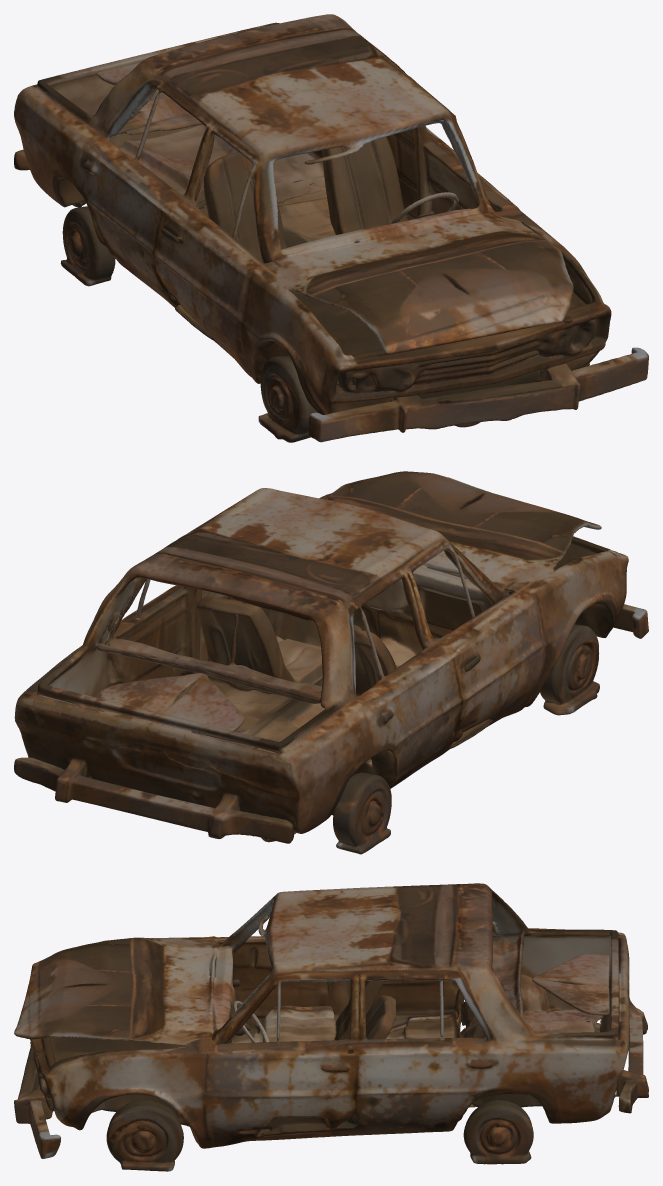
File: rusted car 3d model.glb
3 views of the same model, one above another, from view 1: azimuth 30°, elevation 25°; view 2: azimuth 150°, elevation 25°; view 3: azimuth 270°, elevation 25° (orthographic). The views are drawn at different scales.
Parts seen in each view (by area): view 1: tripo_node_3da9b92f-5475-4ff6-995b-cba9013f3b92; view 2: tripo_node_3da9b92f-5475-4ff6-995b-cba9013f3b92; view 3: tripo_node_3da9b92f-5475-4ff6-995b-cba9013f3b92.
Part boxes in pixels (<box>): tripo_node_3da9b92f-5475-4ff6-995b-cba9013f3b92: <box>14,14,648,442</box>; tripo_node_3da9b92f-5475-4ff6-995b-cba9013f3b92: <box>14,471,648,854</box>; tripo_node_3da9b92f-5475-4ff6-995b-cba9013f3b92: <box>14,883,648,1171</box>.
Size of the model in its own units: 0.5187 by 0.3362 by 1.
Materials: 1 (1 with a texture image).
